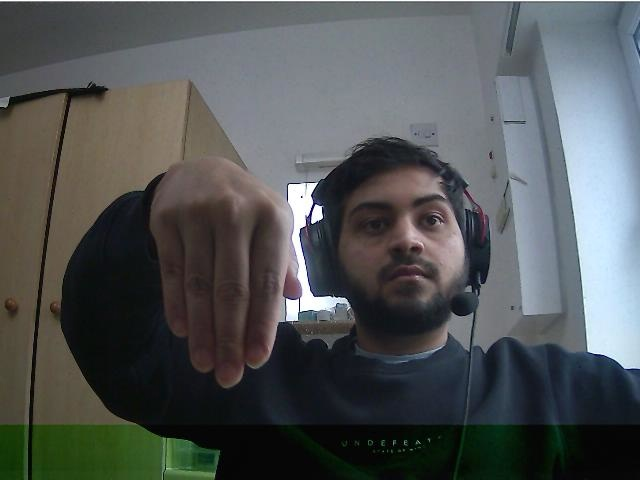down: (153, 158, 296, 388)
